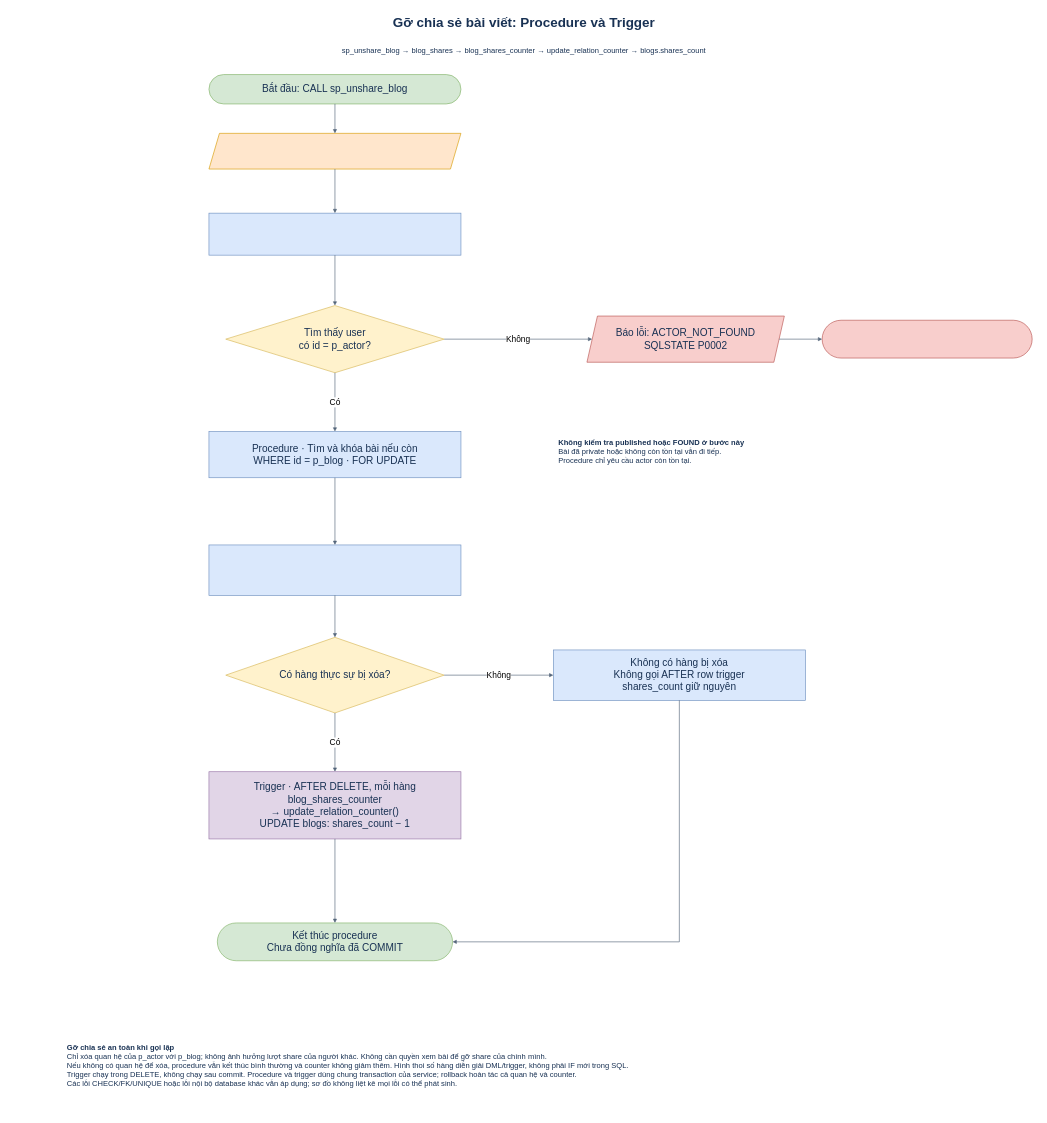
Image size: 1047x1123. Some labels were removed from this diagram. Each missing label, with the centre of its shape:
"Kết thúc bằng lỗi Caller xử lý transaction lỗi" goes at [927,339].
"Nhận p_actor, p_blog Actor lấy từ session phía server" goes at [334,151].
"Procedure · DELETE FROM blog_shares WHERE user_id = p_actor AND blog_id = p_blog" goes at [334,569].
"Procedure · Tìm và khóa user WHERE id = p_actor · FOR KEY SHARE" goes at [334,234].
